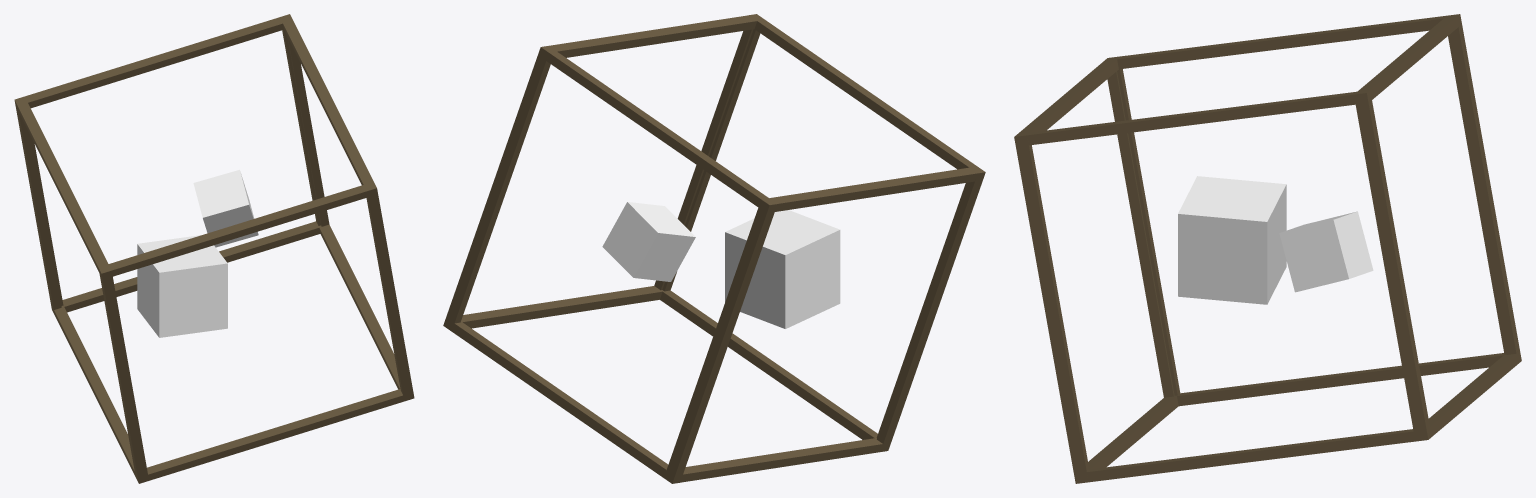
3 views of the same model, side by side, from view 1: azimuth 30°, elevation 25°; view 2: azimuth 150°, elevation 25°; view 3: azimuth 270°, elevation 25° (orthographic). The views are drawn at different scales.
Parts seen in each view (by area): view 1: Layer0_001; view 2: Layer0_001; view 3: Layer0_001.
Part boxes in pixels (<box>): Layer0_001: <box>14,14,414,483</box>; Layer0_001: <box>443,14,985,483</box>; Layer0_001: <box>1014,14,1521,483</box>.
Size of the model in its own units: 718 by 696 by 706.
